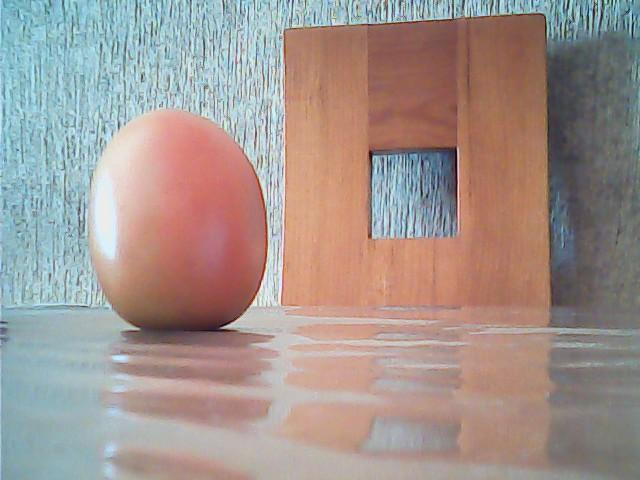verde: (89, 107, 269, 330)
